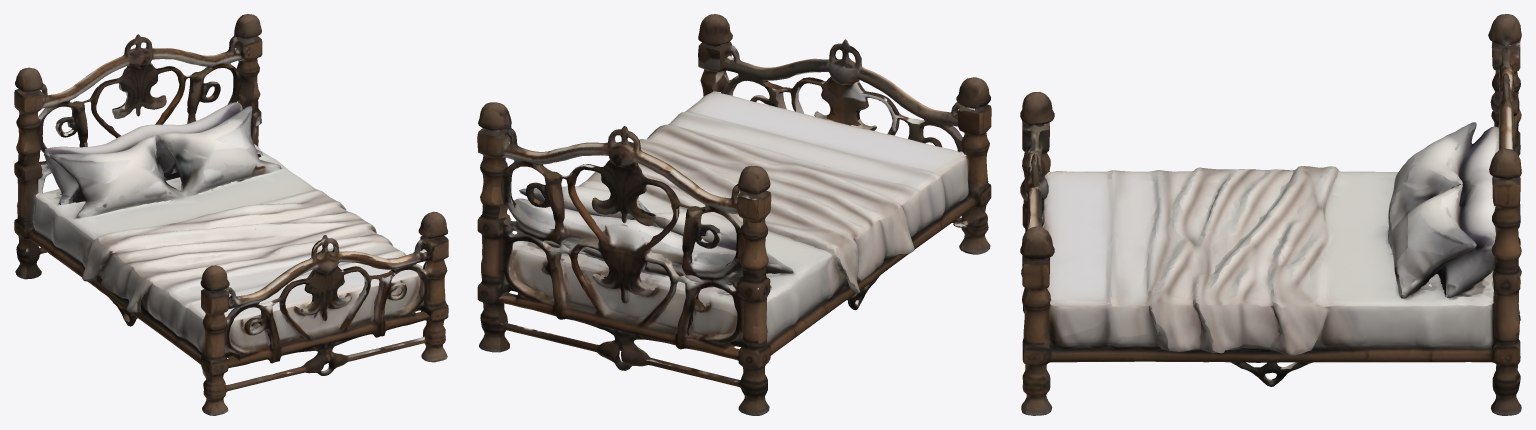
The model's file is cama_hierro.glb.
3 renders of one model, left to right at view 1: azimuth 30°, elevation 25°; view 2: azimuth 150°, elevation 25°; view 3: azimuth 270°, elevation 25°, orthographic. The views are drawn at different scales.
Visible parts, largest first — view 1: tmpdd1dpwsd.ply; view 2: tmpdd1dpwsd.ply; view 3: tmpdd1dpwsd.ply.
Part boxes in pixels (box(x1,y1,x2,y2)): tmpdd1dpwsd.ply: box(14, 14, 448, 415); tmpdd1dpwsd.ply: box(477, 14, 991, 415); tmpdd1dpwsd.ply: box(1020, 14, 1521, 415).
Bounding box in the file's own units: 0.7388 × 0.5882 × 0.9916.
1 material, 1 textured.
